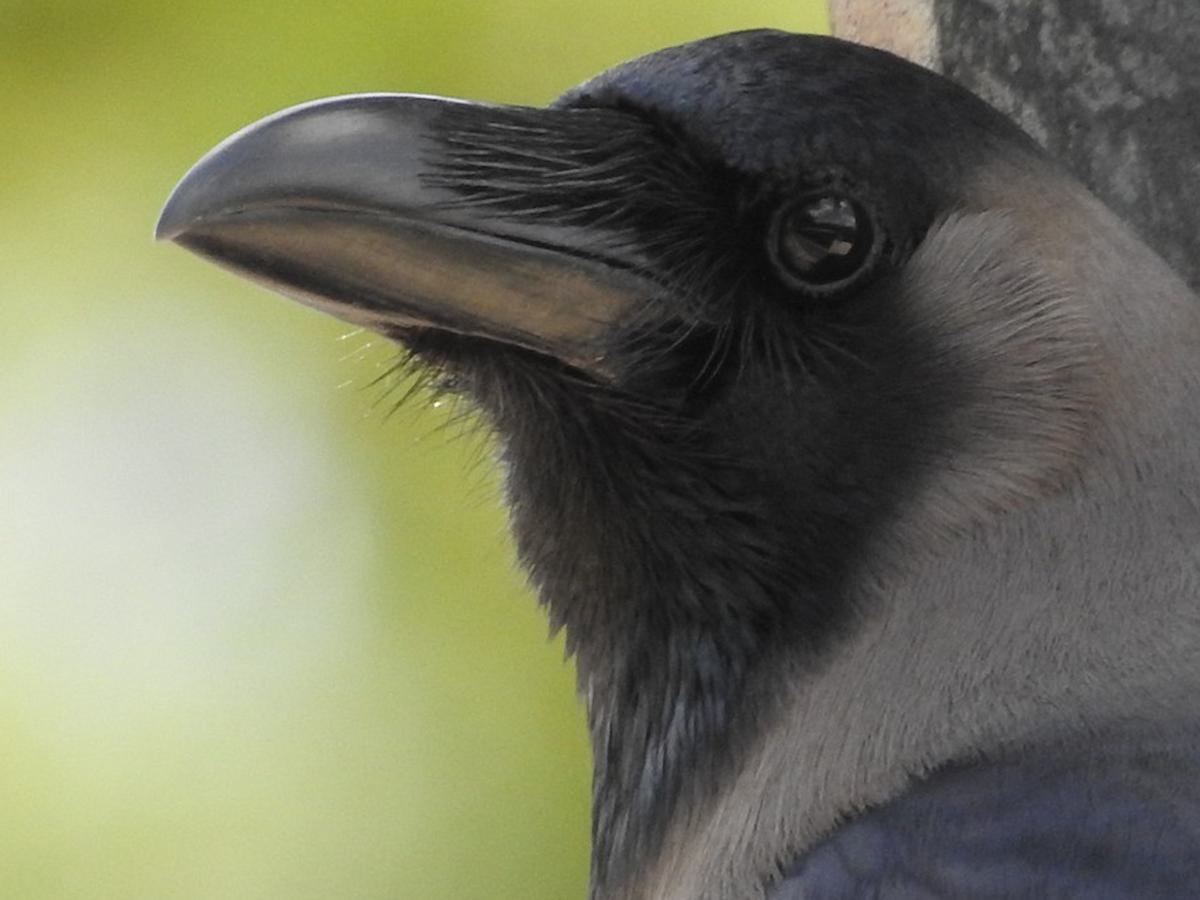crow: (158, 27, 1200, 900)
